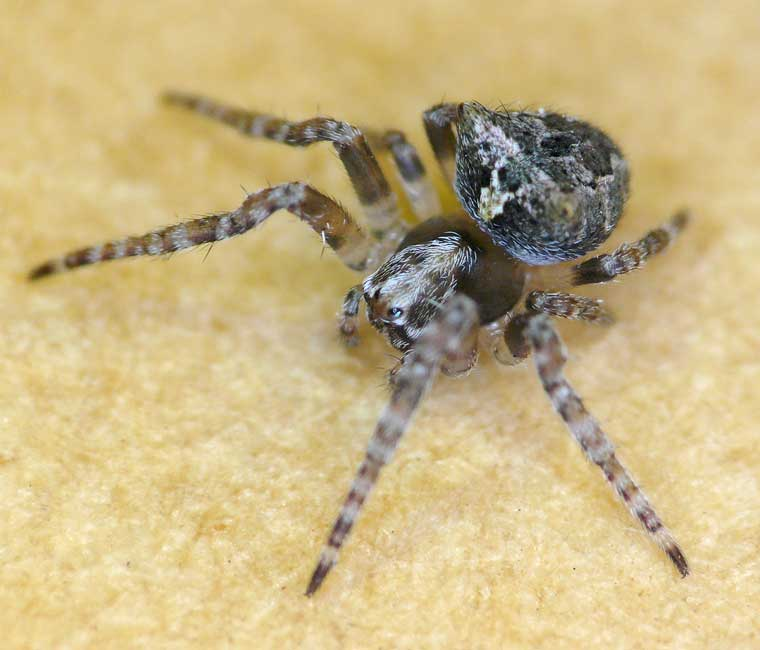spider: (14, 20, 733, 619)
